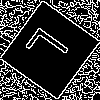L: (24, 25, 78, 75)
